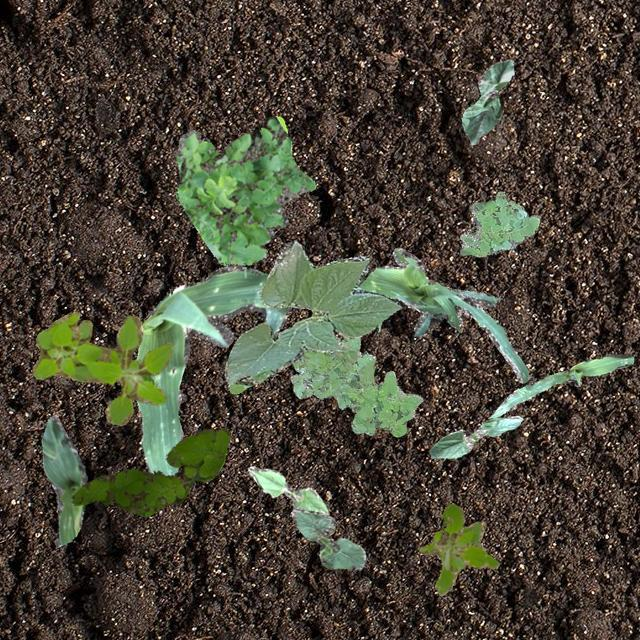crop: (134, 264, 380, 474), (224, 240, 400, 392), (358, 246, 528, 382), (488, 352, 632, 418), (40, 414, 86, 546), (290, 506, 364, 570), (460, 58, 512, 144), (428, 414, 522, 458), (246, 464, 328, 514)
weed: (174, 116, 314, 264), (30, 310, 172, 424), (70, 426, 230, 516), (289, 336, 422, 436), (418, 504, 498, 594), (458, 190, 538, 256)
